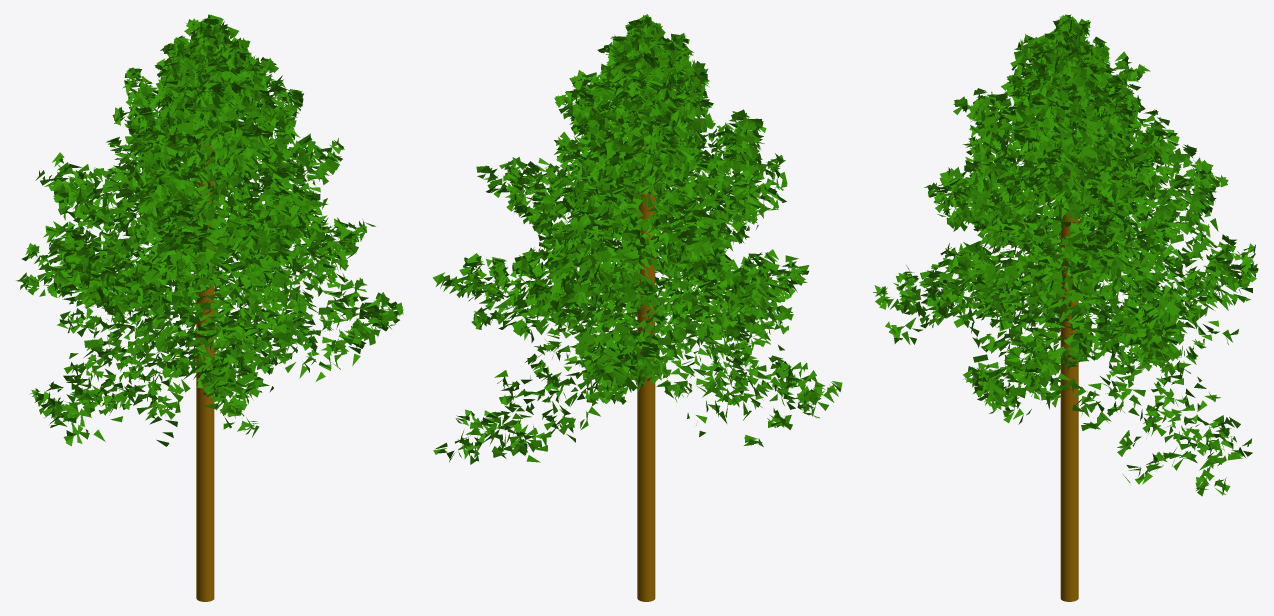
The model's file is Tree3.glb.
3 renders of one model, left to right at view 1: azimuth 30°, elevation 25°; view 2: azimuth 150°, elevation 25°; view 3: azimuth 270°, elevation 25°, orthographic.
Visible parts, largest first — view 1: leaves, Cilindro; view 2: leaves, Cilindro; view 3: leaves, Cilindro.
Part boxes in pixels (left/top/right/bottom): leaves: left=16, top=14, right=403, bottom=446; Cilindro: left=196, top=141, right=214, bottom=601; leaves: left=433, top=14, right=842, bottom=464; Cilindro: left=637, top=146, right=655, bottom=601; leaves: left=873, top=14, right=1258, bottom=496; Cilindro: left=1060, top=144, right=1078, bottom=601.
Size of the model in its own units: 9.41 by 15.28 by 9.21.
